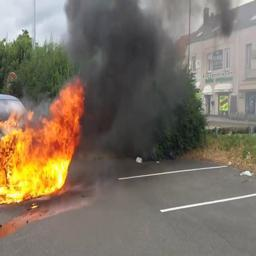fire: (0, 76, 85, 204)
